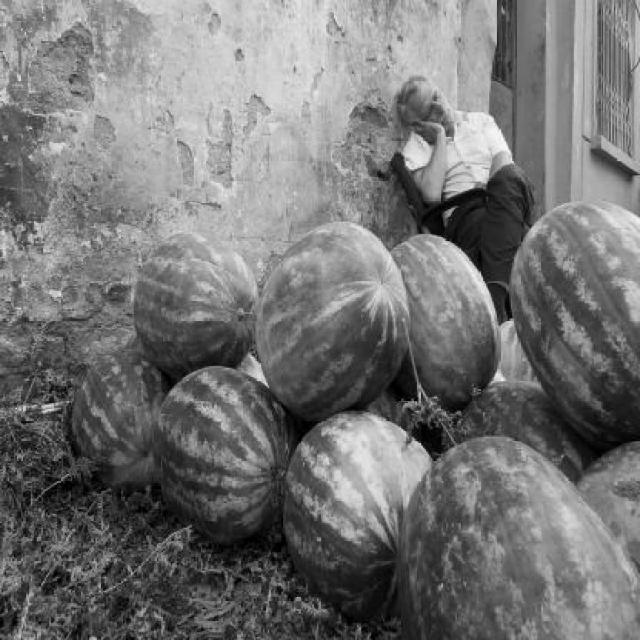Watermelon: (72, 196, 638, 638)
